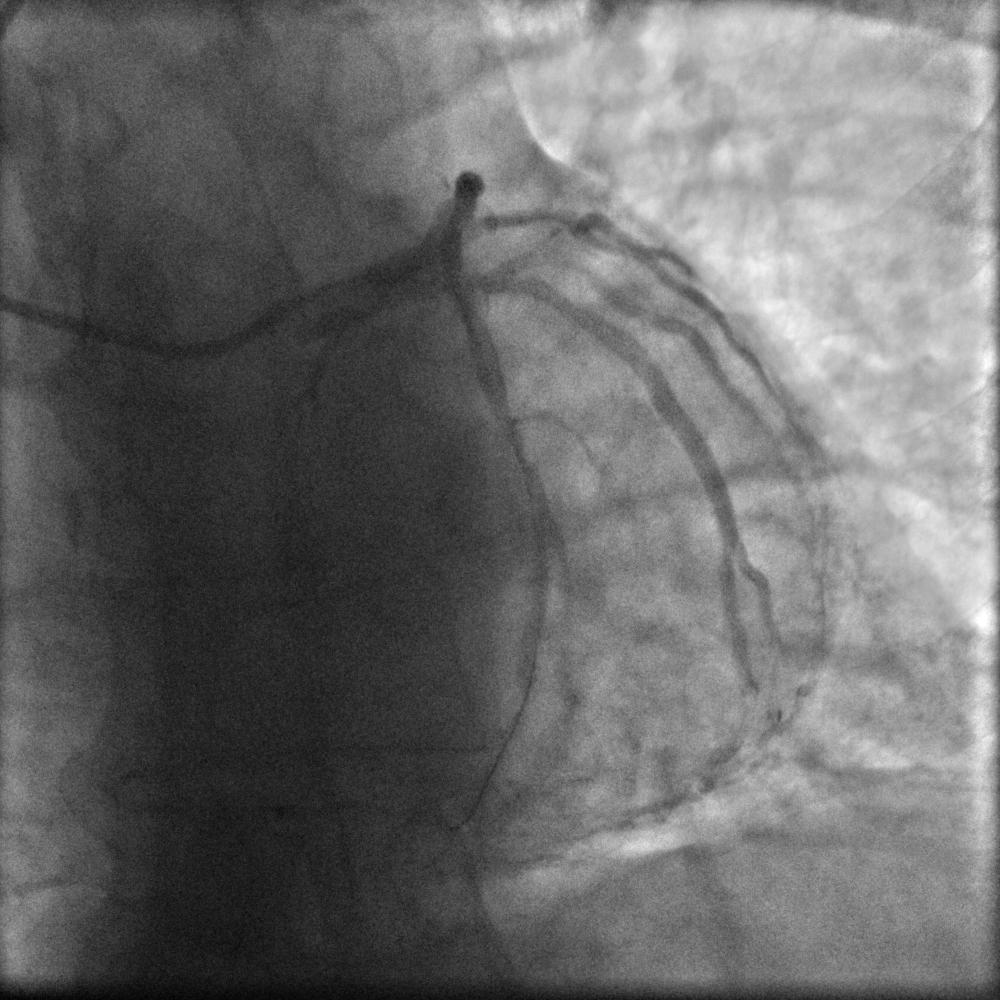Stenosis: (495, 403, 543, 498)
